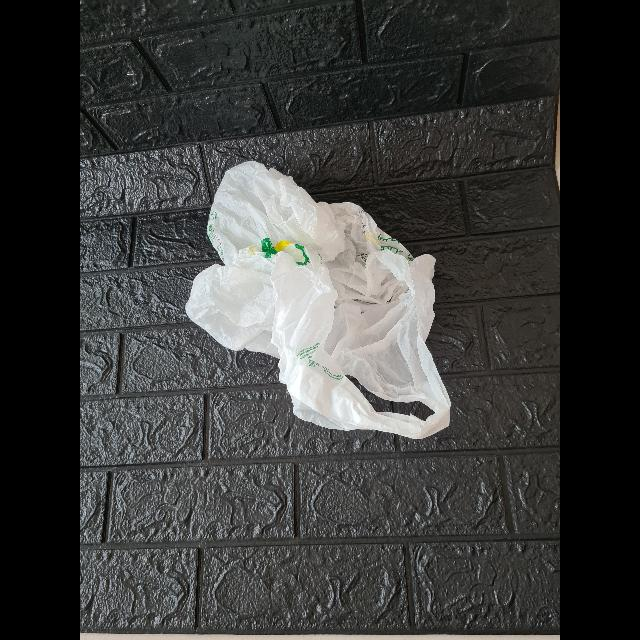plastic_bag: (172, 148, 483, 456)
